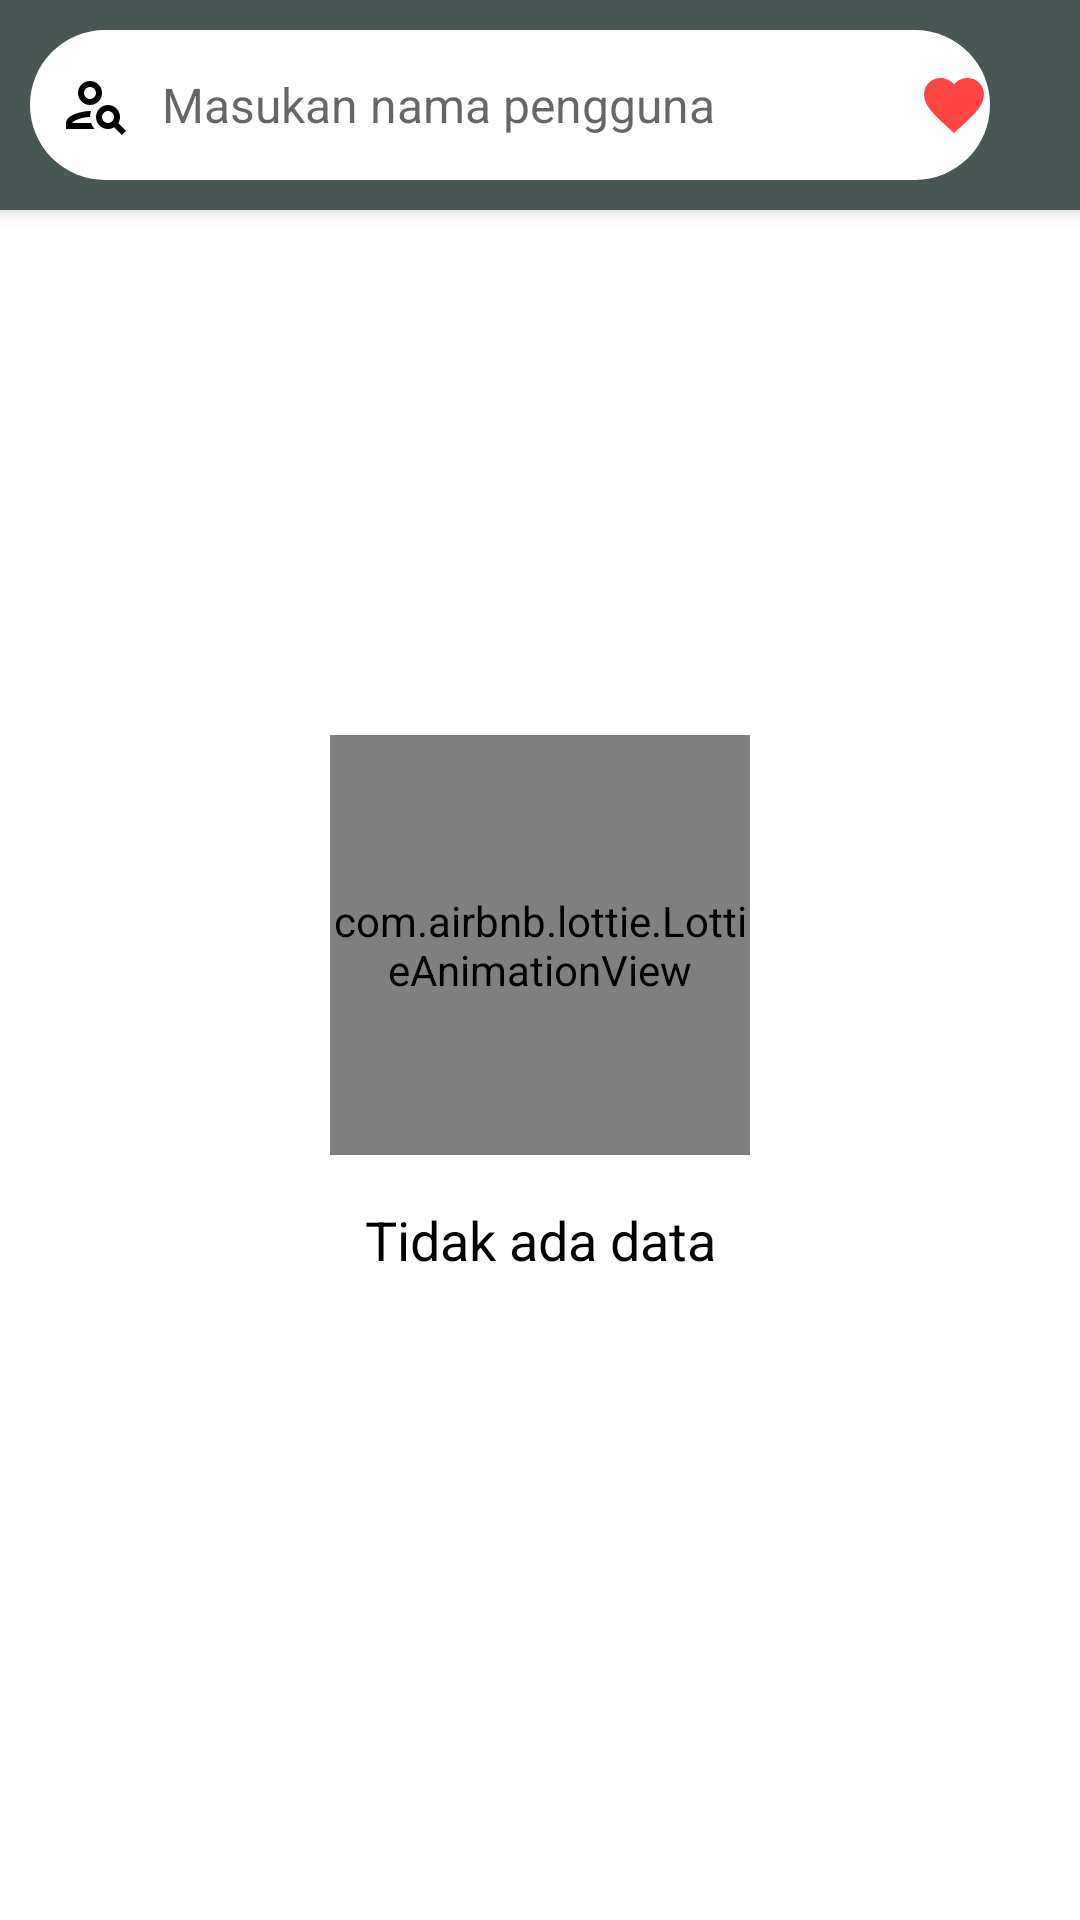

Icon bounding boxes for this 1080x1920 phone screenshot, format (x1, y1, x2, y2):
favorite: (924, 78, 984, 133)
